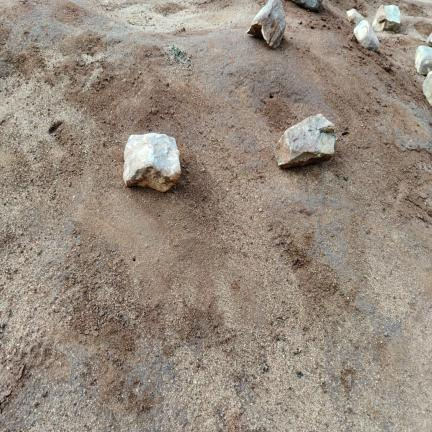Rocks: (124, 133, 180, 191), (275, 114, 335, 168), (248, 0, 286, 48), (354, 20, 379, 51), (373, 5, 400, 31), (415, 46, 431, 75), (346, 8, 365, 26), (291, 0, 322, 11), (423, 72, 431, 104), (427, 34, 431, 46)
